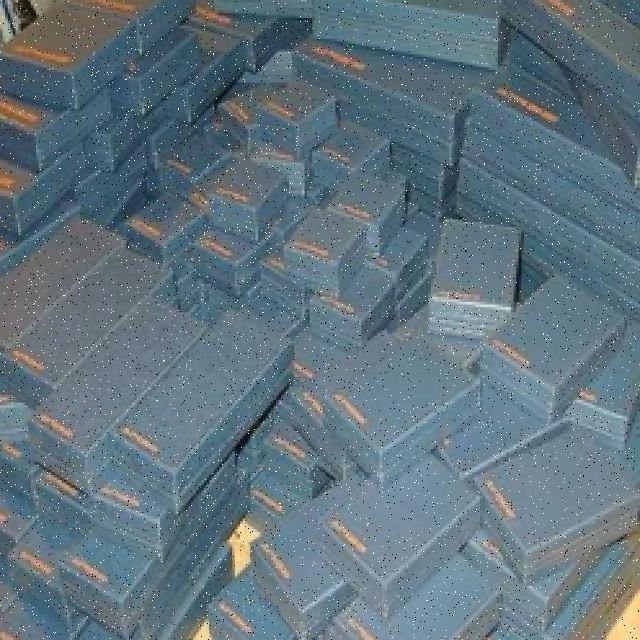box: (442, 114, 640, 290), (112, 309, 310, 484), (34, 304, 220, 454), (268, 20, 492, 124), (313, 470, 493, 599), (480, 438, 640, 576), (330, 344, 484, 476), (22, 246, 166, 384), (0, 211, 127, 338), (331, 557, 514, 640), (482, 78, 635, 176), (491, 302, 617, 414), (522, 0, 638, 121), (7, 8, 132, 109), (426, 218, 516, 330), (307, 0, 501, 44), (120, 26, 190, 130), (70, 136, 152, 214), (0, 98, 106, 158), (312, 270, 392, 348), (280, 213, 366, 284), (164, 30, 232, 117), (129, 190, 210, 263), (0, 147, 80, 212), (75, 0, 186, 39), (262, 84, 326, 150), (341, 173, 404, 238), (208, 165, 282, 220), (323, 134, 380, 182), (224, 92, 270, 144), (368, 230, 416, 276), (100, 104, 144, 154), (173, 138, 220, 182)
